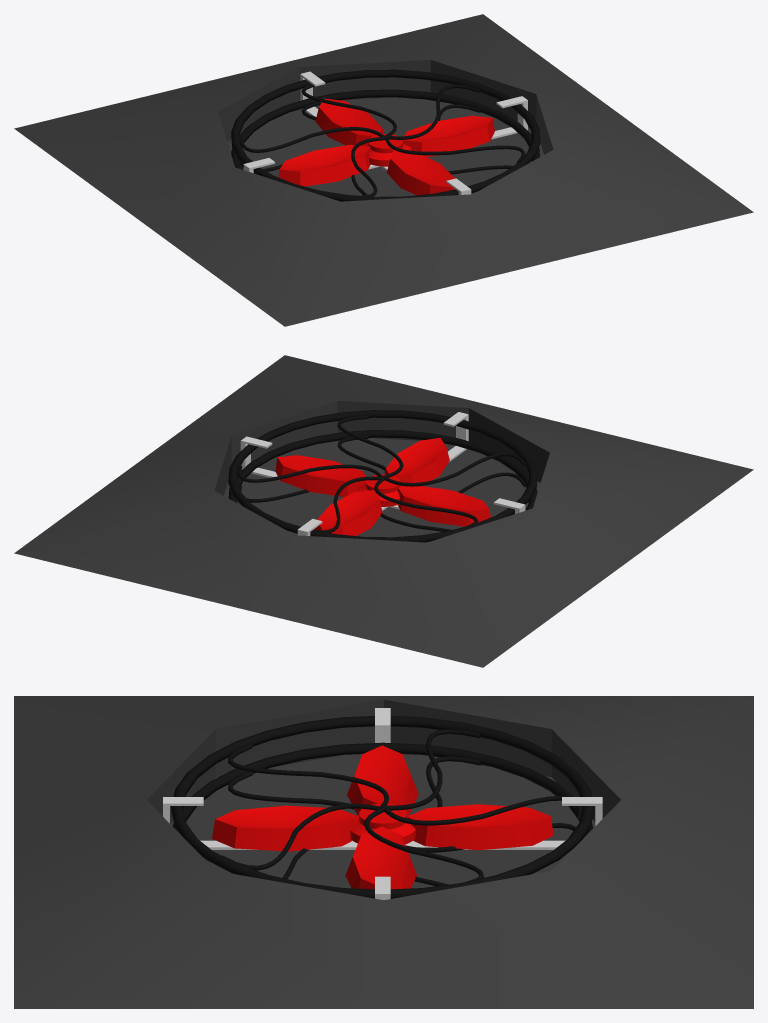
Rendered from Fan.fbx.
3 views of the same model, one above another, from view 1: azimuth 30°, elevation 25°; view 2: azimuth 150°, elevation 25°; view 3: azimuth 270°, elevation 25° (orthographic). The views are drawn at different scales.
Visible parts, largest first — view 1: Boundry box, Fan, Cage1, Cage2, Cage3; view 2: Boundry box, Fan, Cage1, Cage2, Cage3; view 3: Boundry box, Fan, Cage1, Cage2, Cage3.
Part boxes in pixels (x1,y1,x2,y2): Boundry box: (14, 14, 753, 326); Fan: (278, 98, 494, 195); Cage1: (231, 69, 540, 201); Cage2: (231, 89, 539, 195); Cage3: (243, 71, 527, 194); Boundry box: (14, 355, 753, 667); Fan: (275, 438, 490, 535); Cage1: (228, 410, 537, 542); Cage2: (228, 430, 537, 531); Cage3: (240, 412, 525, 535); Boundry box: (14, 696, 753, 1008); Fan: (212, 745, 553, 889); Cage1: (171, 716, 594, 898); Cage2: (173, 742, 592, 886); Cage3: (163, 708, 602, 899).
Size of the model in its own units: 101 by 8.09 by 101.
